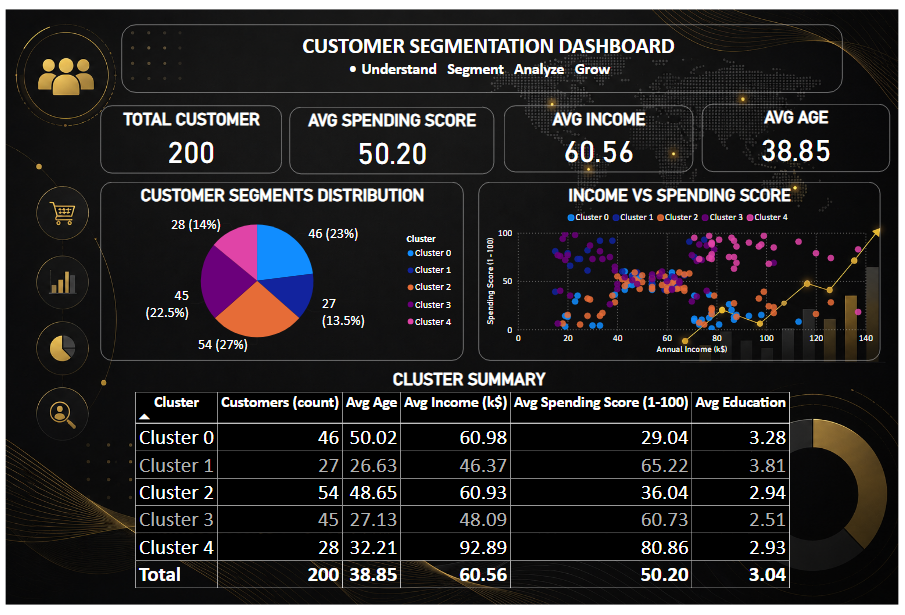

The dashboard page shown, as its layout file describes it:
{"tool":"powerbi","page":{"name":"Page 1","canvas":[1595,1050],"ordinal":0},"visuals":[{"type":"card","title":"TOTAL CUSTOMER","fields":{"Values":["CountNonNull(customer_segmented.CustomerID)"]},"box":[193,173.5,311.9,116.9],"z":0},{"type":"card","title":"AVG SPENDING SCORE","fields":{"Values":["Avg(customer_segmented.Spending Score (1-100))"]},"box":[518.7,175.1,351.9,115.6],"z":1000},{"type":"card","title":"AVG INCOME","fields":{"Values":["Avg(customer_segmented.Annual Income (k$))"]},"box":[886.8,173.5,325.5,115],"z":2000},{"type":"card","title":"AVG AGE","fields":{"Values":["Avg(customer_segmented.Age)"]},"box":[1227.9,171.5,323.5,116.9],"z":3000},{"type":"pieChart","title":"CUSTOMER SEGMENTS DISTRIBUTION","fields":{"Y":["CountNonNull(customer_segmented.CustomerID)"],"Series":["customer_segmented.Cluster"]},"box":[192.7,303.7,624.9,307.6],"z":4000},{"type":"scatterChart","title":"INCOME VS SPENDING SCORE","fields":{"X":["customer_segmented.Annual Income (k$)"],"Y":["customer_segmented.Spending Score (1-100)"],"Series":["customer_segmented.Cluster"]},"box":[844.8,303.7,691.1,307.6],"z":5000},{"type":"textbox","box":[229.6,33,1240.6,117.3],"z":6000},{"type":"tableEx","title":"CLUSTER SUMMARY","fields":{"Values":["customer_segmented.Cluster","CountNonNull(customer_segmented.CustomerID)","Avg(customer_segmented.Age)","Avg(customer_segmented.Annual Income (k$))","Avg(customer_segmented.Spending Score (1-100))","Avg(customer_segmented.Education)"]},"box":[231.9,627.6,1171.4,391.8],"z":7000}]}

Visuals, with their boxes on the page's 1595x1050 design canvas (x1, y1, x2, y2). These are canvas units, not pixel positions in the 905x615 screenshot, which may show the page scaled, cropped or inside an application window:
"TOTAL CUSTOMER" card: <bbox>193, 174, 505, 290</bbox>
"AVG SPENDING SCORE" card: <bbox>519, 175, 871, 291</bbox>
"AVG INCOME" card: <bbox>887, 174, 1212, 288</bbox>
"AVG AGE" card: <bbox>1228, 172, 1551, 288</bbox>
"CUSTOMER SEGMENTS DISTRIBUTION" pieChart: <bbox>193, 304, 818, 611</bbox>
"INCOME VS SPENDING SCORE" scatterChart: <bbox>845, 304, 1536, 611</bbox>
textbox: <bbox>230, 33, 1470, 150</bbox>
"CLUSTER SUMMARY" tableEx: <bbox>232, 628, 1403, 1019</bbox>
